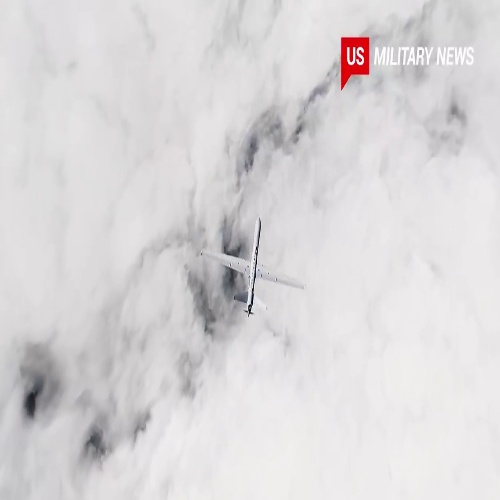uav522: (198, 216, 307, 319)
